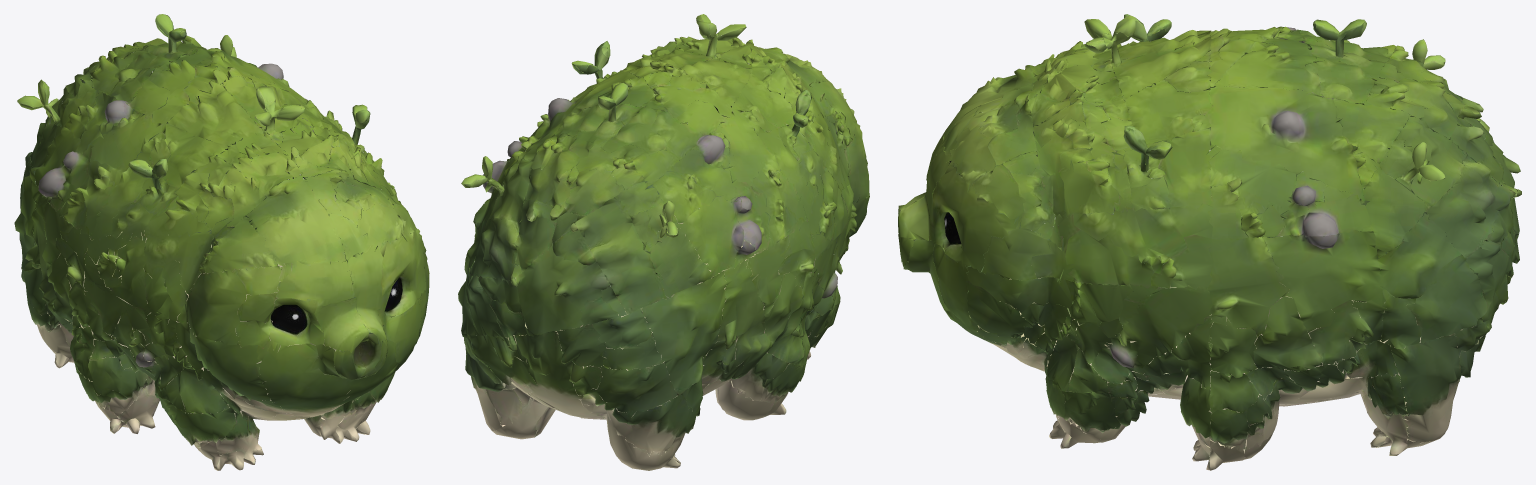
3 renders of one model, left to right at view 1: azimuth 30°, elevation 25°; view 2: azimuth 150°, elevation 25°; view 3: azimuth 270°, elevation 25°, orthographic. The views are drawn at different scales.
Parts seen in each view (by area): view 1: Mesh_0; view 2: Mesh_0; view 3: Mesh_0.
Part boxes in pixels (x1,y1,x2,y2): Mesh_0: [14, 14, 429, 470]; Mesh_0: [458, 14, 869, 470]; Mesh_0: [898, 14, 1521, 470].
Size of the model in its own units: 1.21 by 1.3 by 1.9.
Materials: 1 (1 with a texture image).
